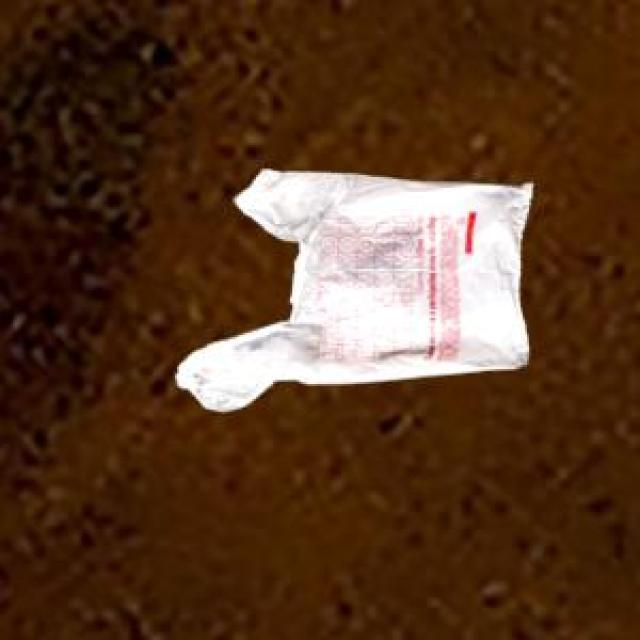Plastic_Bag: (174, 168, 530, 408)
